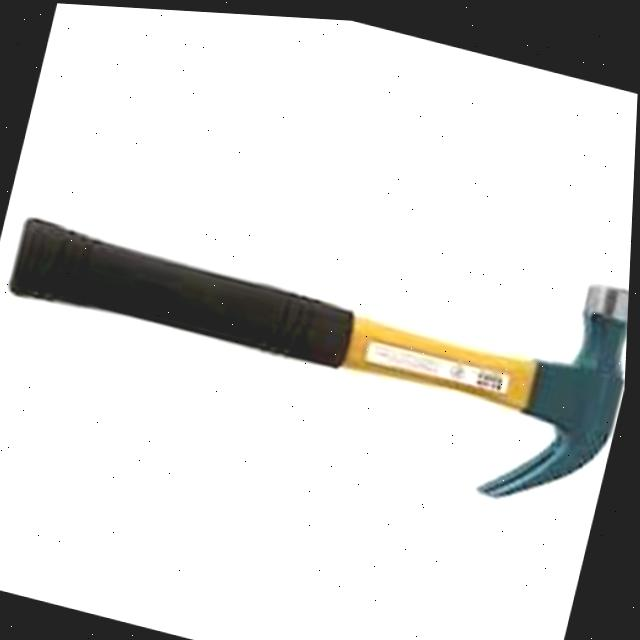hammer: (0, 121, 636, 525)
